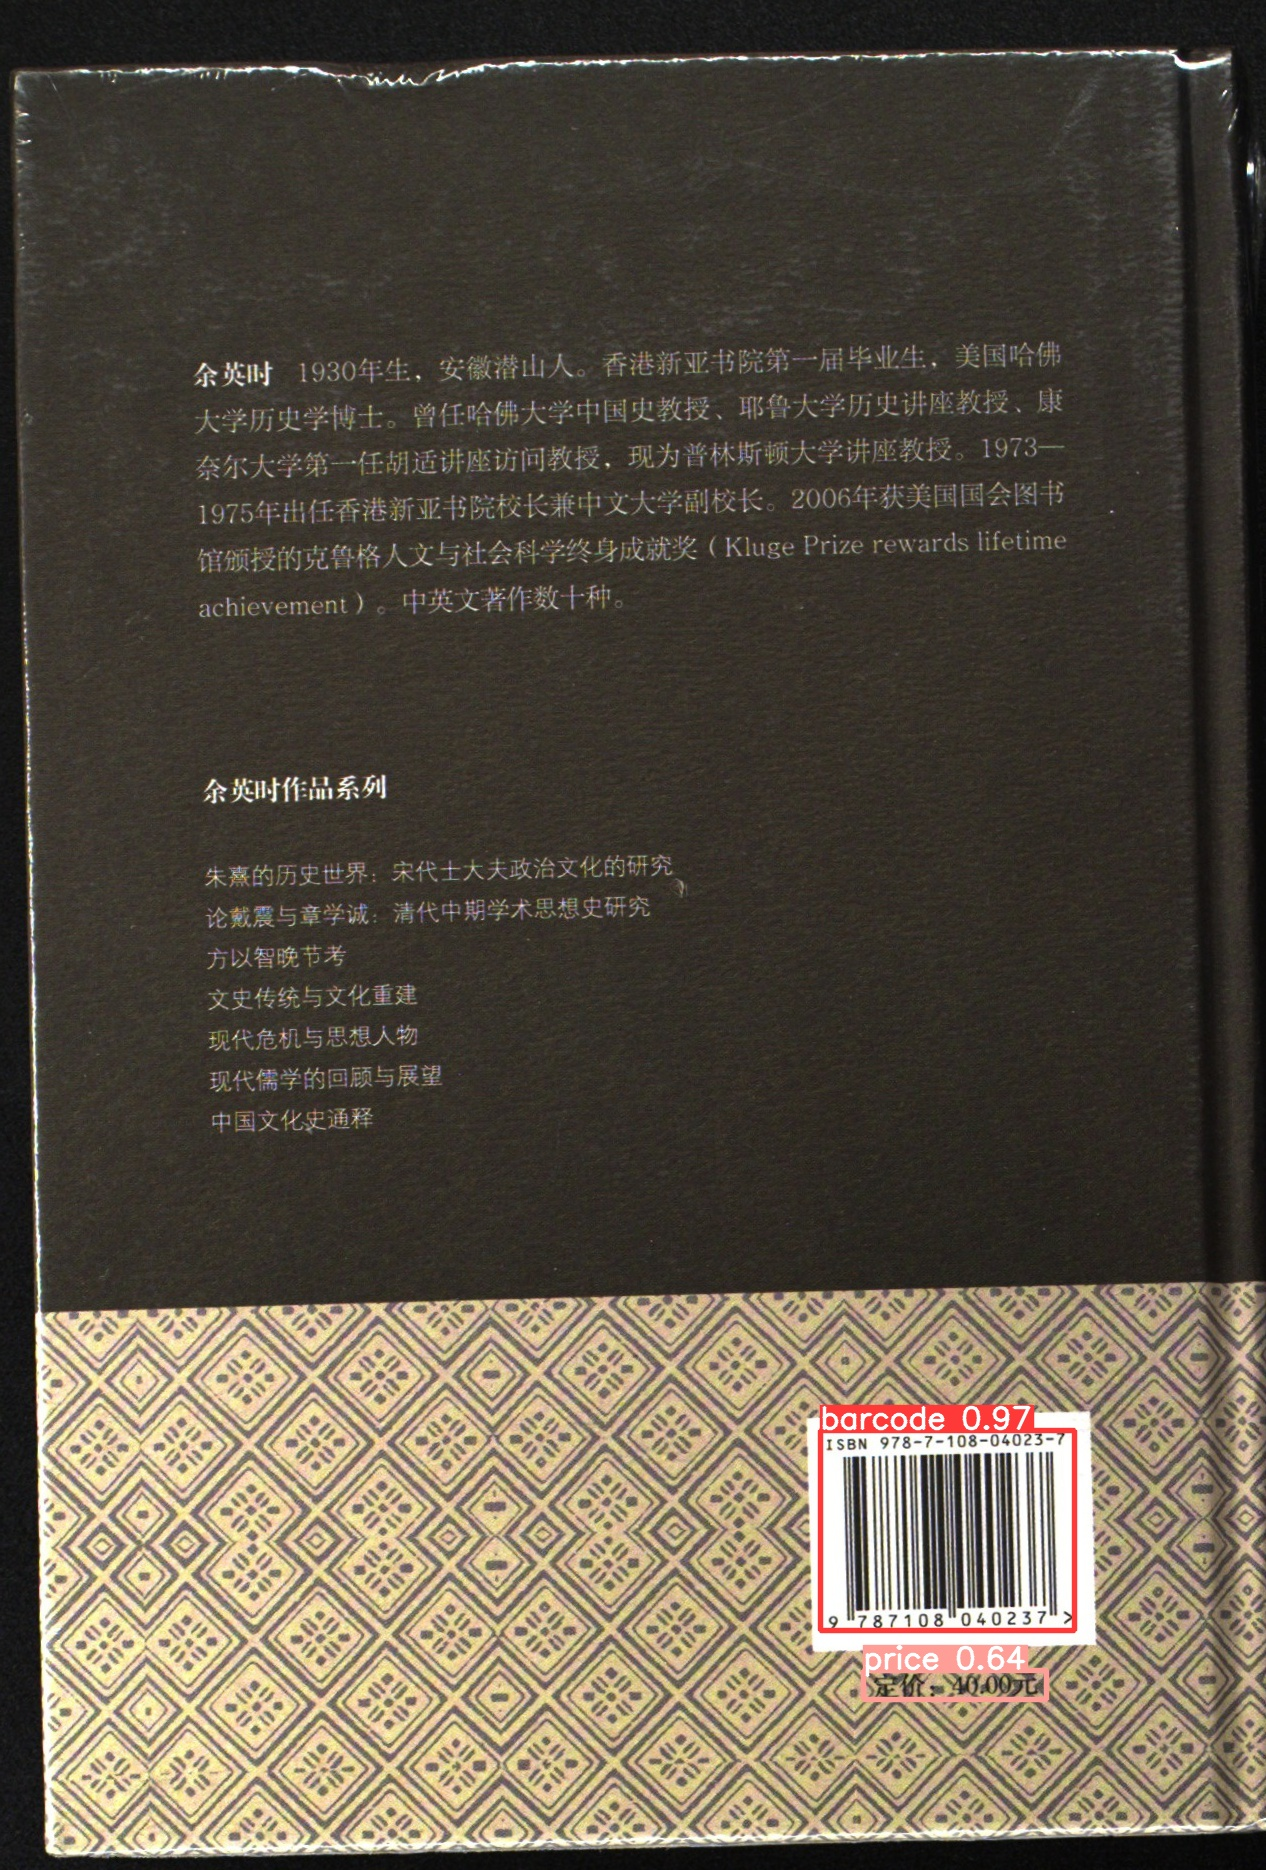barcode: (774, 1388, 1116, 1662)
